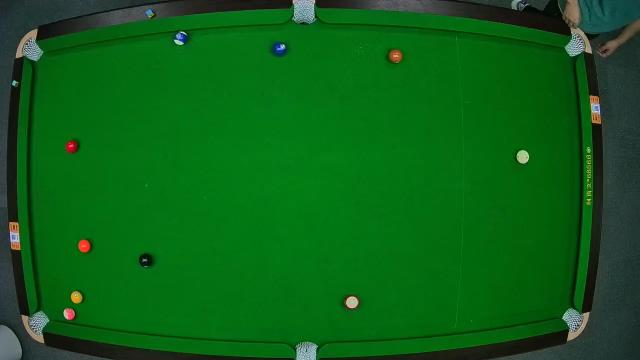bag1: (20, 37, 42, 63)
bag2: (292, 1, 318, 25)
bag3: (567, 30, 591, 60)
bag4: (18, 306, 50, 342)
bag5: (294, 338, 318, 360)
bag6: (561, 307, 589, 340)
ball0: (516, 148, 530, 166)
ball1: (70, 289, 84, 304)
ball10: (173, 30, 189, 48)
ball11: (345, 294, 359, 312)
ball12: (62, 308, 78, 322)
ball2: (272, 40, 288, 57)
ball3: (66, 140, 78, 154)
ball5: (78, 239, 92, 253)
ball7: (389, 49, 403, 65)
ball8: (139, 252, 153, 270)
